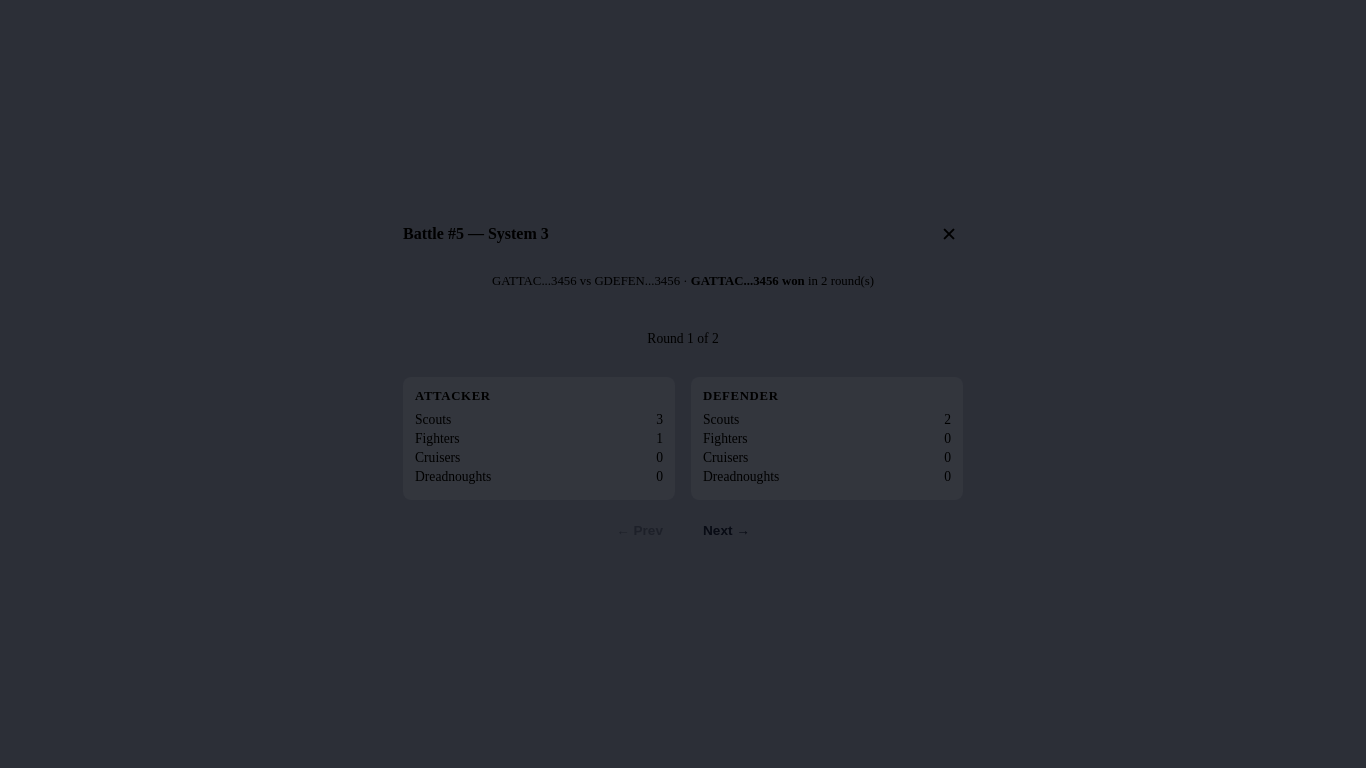
Test case: BattleReplayViewer › advances to the next round when Next is clicked
What coordinates should you click on to do the following:
click the button with aria-label "next round"
I would click on:
 (726, 530)
Its box is [687,516,766,544].
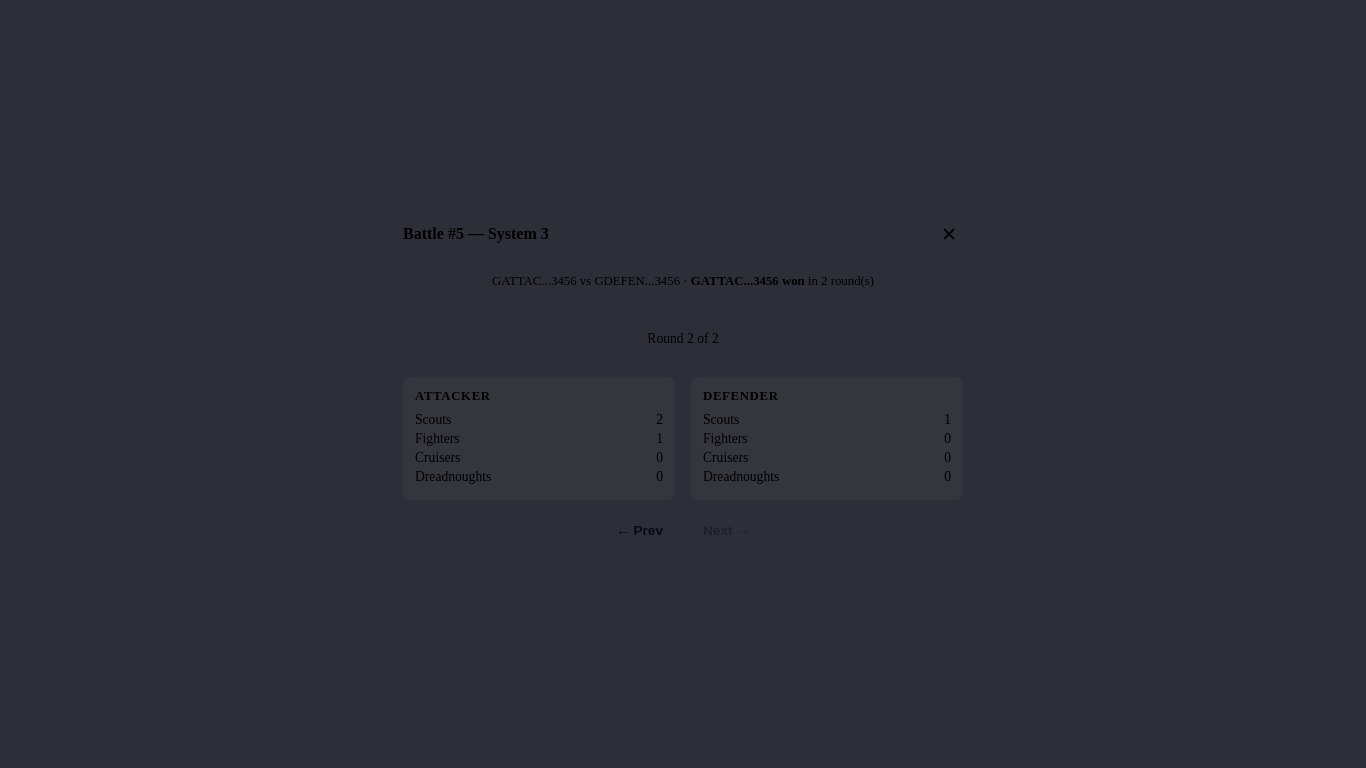
Check: the text "Round 2 of 2" is shown, box [647,331,719,346]
